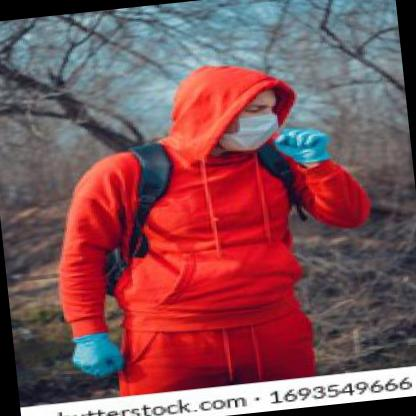Gloves: (64, 329, 126, 381), (271, 122, 335, 166)
